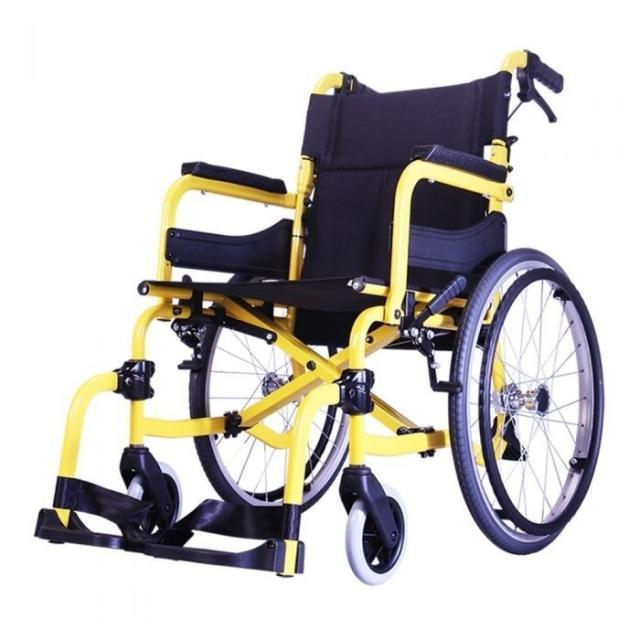wheelchair: (16, 46, 640, 587)
